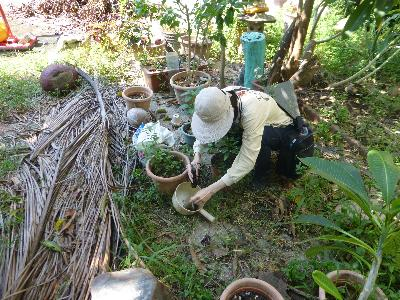bowl: (171, 180, 204, 215)
